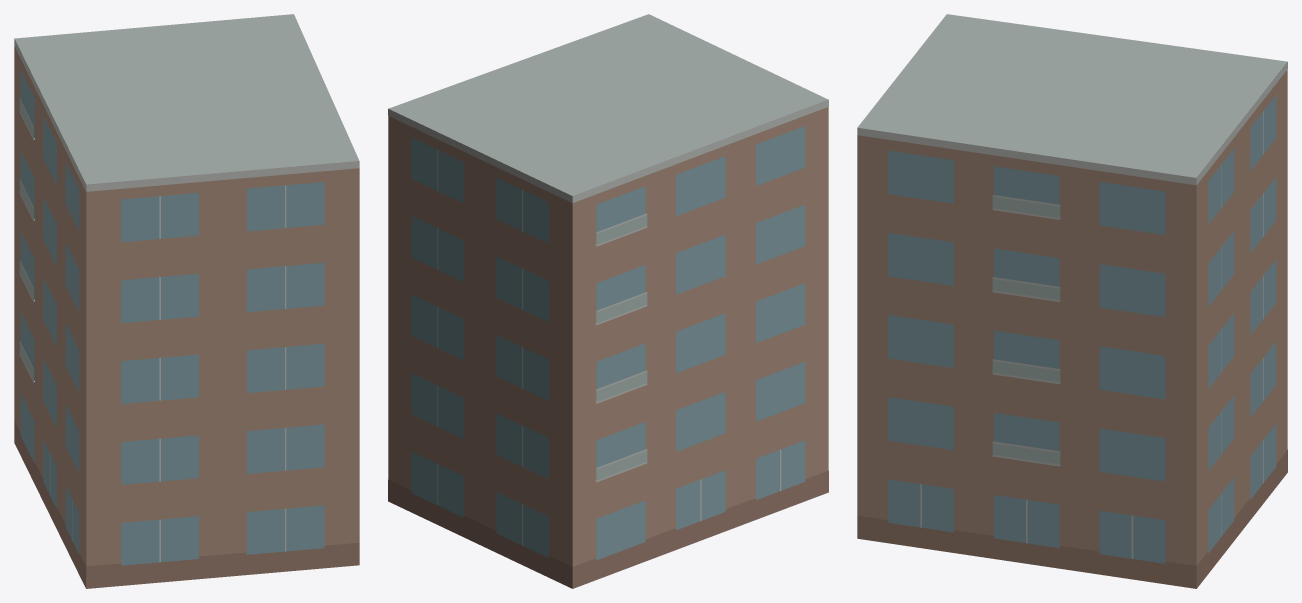
The model's file is survey-upis-32962507.glb.
3 views of the same model, side by side, from view 1: azimuth 30°, elevation 25°; view 2: azimuth 150°, elevation 25°; view 3: azimuth 270°, elevation 25° (orthographic). The views are drawn at different scales.
Parts seen in each view (by area): view 1: survey-upis-32962507.tmp; view 2: survey-upis-32962507.tmp; view 3: survey-upis-32962507.tmp.
Boxes of the visible parts, bbox=[...] form: survey-upis-32962507.tmp: bbox=[14, 14, 359, 588]; survey-upis-32962507.tmp: bbox=[388, 14, 828, 588]; survey-upis-32962507.tmp: bbox=[857, 14, 1287, 588].
Size of the model in its own units: 11.65 by 13.6 by 12.92.
